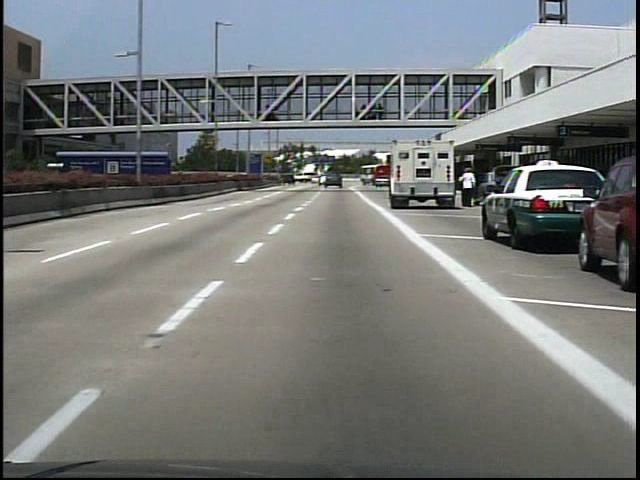person: (458, 167, 477, 210)
